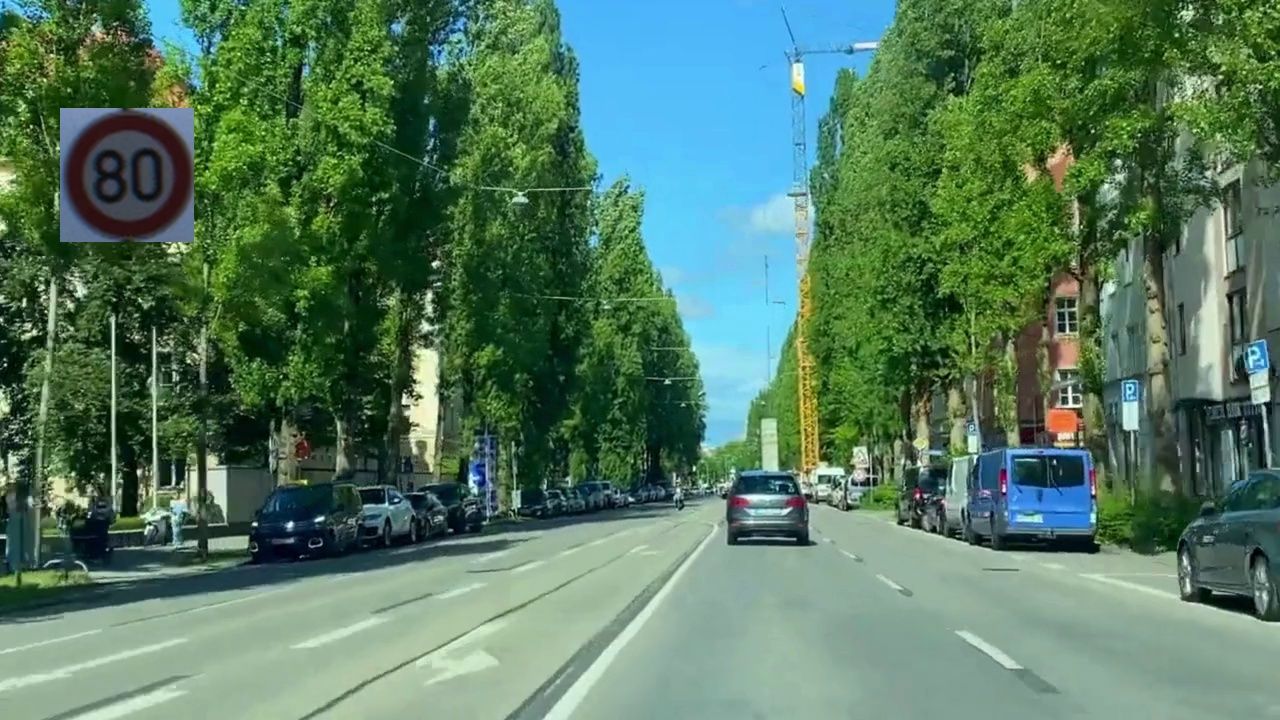Speed 80: (60, 108, 194, 242)
